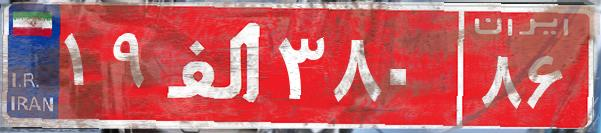0: (385, 28, 445, 110)
1: (57, 26, 110, 107)
3: (273, 28, 330, 110)
6: (525, 38, 570, 115)
8: (330, 28, 385, 110), (475, 38, 525, 113)
9: (110, 28, 158, 105)
الف: (158, 15, 273, 115)
